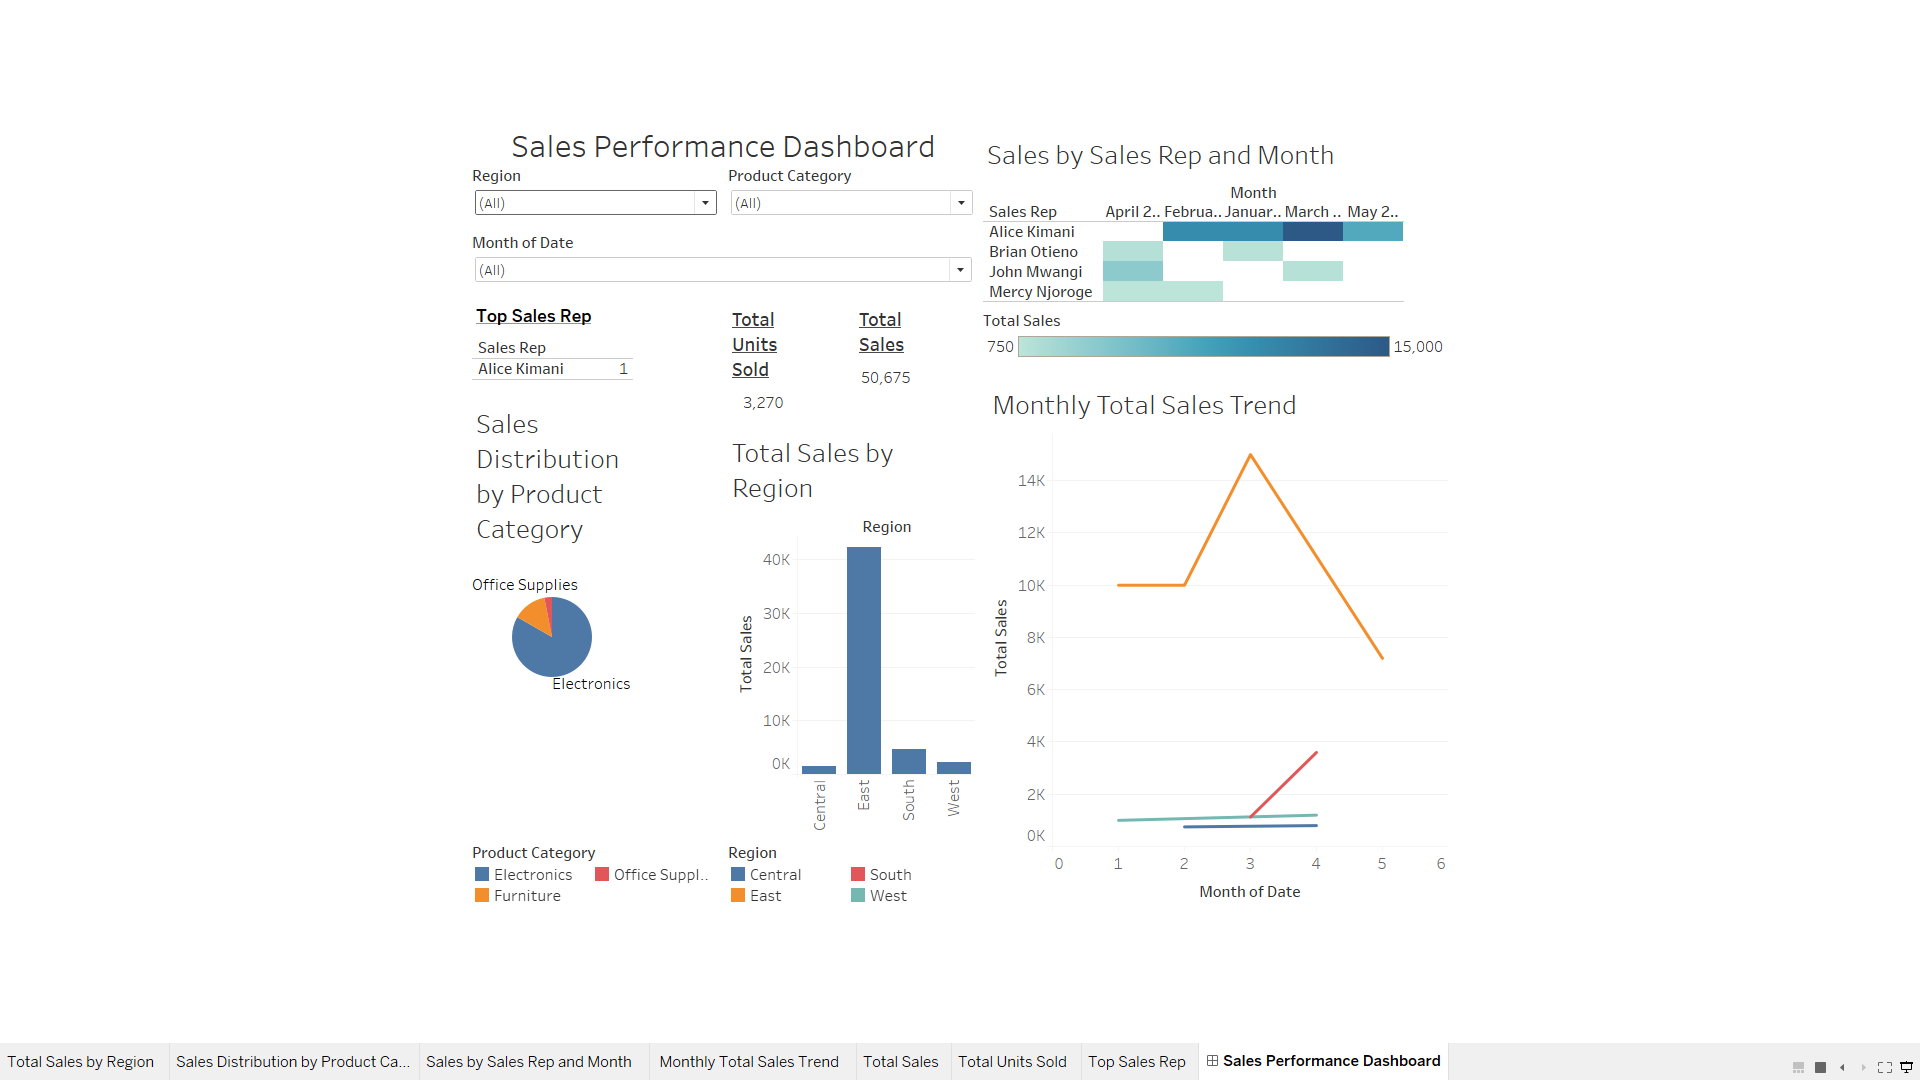

Layout of this report page (visuals, bound fields, positions):
{"tool":"tableau","page":{"name":"Sales Performance Dashboard","canvas":[1000,800],"ordinal":0},"visuals":[{"type":"title","box":[8,8,511,32]},{"type":"worksheet","title":"Sales by Sales Rep and Month","mark":"Square","rows":["Sales Rep"],"cols":["Calculation_398287096894464006"],"box":[519,8,473,177]},{"type":"filter","title":"Sales Distribution by Product Category","param":"[federated.1k56g9n1raj53l147kjdc0suh9s0].[none:Region:nk]","box":[8,40,255.5,67]},{"type":"filter","title":"Sales Distribution by Product Category","param":"[federated.1k56g9n1raj53l147kjdc0suh9s0].[none:Product Category:nk]","box":[263.5,40,255.5,67]},{"type":"filter","title":"Sales Distribution by Product Category","param":"[federated.1k56g9n1raj53l147kjdc0suh9s0].[mn:Date:ok]","box":[8,107,511,70]},{"type":"worksheet","title":"Top Sales Rep","mark":"Automatic","rows":["Sales Rep"],"box":[8,177,255.5,154]},{"type":"worksheet","title":"Total Units Sold","mark":"Automatic","box":[263.5,177,127.8,154]},{"type":"worksheet","title":"Total Sales","mark":"Automatic","box":[391.2,177,127.8,154]},{"type":"legend","title":"Sales by Sales Rep and Month","param":"[federated.1k56g9n1raj53l147kjdc0suh9s0].[sum:Total Sales:qk]","box":[519,185,473,73]},{"type":"worksheet","title":" Monthly Total Sales Trend","mark":"Line","rows":["Total Sales"],"cols":["Date"],"box":[519,258,473,534]},{"type":"worksheet","title":"Sales Distribution by Product Category","mark":"Pie","box":[8,331,255.5,386]},{"type":"worksheet","title":"Total Sales by Region","mark":"Bar","rows":["Total Sales"],"cols":["Region"],"box":[263.5,331,255.5,386]},{"type":"legend","title":"Sales Distribution by Product Category","param":"[federated.1k56g9n1raj53l147kjdc0suh9s0].[none:Product Category:nk]","box":[8,717,256,75]},{"type":"legend","title":" Monthly Total Sales Trend","param":"[federated.1k56g9n1raj53l147kjdc0suh9s0].[none:Region:nk]","box":[264,717,255,75]}]}

Visuals, with their boxes in screenshot pixels (x1, y1, x2, y2):
title: [166, 11, 846, 53]
"Sales by Sales Rep and Month" worksheet (Square marks): [846, 11, 1476, 246]
"Sales Distribution by Product Category" filter: [166, 53, 506, 142]
"Sales Distribution by Product Category" filter: [506, 53, 846, 142]
"Sales Distribution by Product Category" filter: [166, 142, 846, 236]
"Top Sales Rep" worksheet: [166, 236, 506, 441]
"Total Units Sold" worksheet: [506, 236, 676, 441]
"Total Sales" worksheet: [676, 236, 846, 441]
"Sales by Sales Rep and Month" legend: [846, 246, 1476, 343]
" Monthly Total Sales Trend" worksheet (Line marks): [846, 343, 1476, 1054]
"Sales Distribution by Product Category" worksheet (Pie marks): [166, 441, 506, 955]
"Total Sales by Region" worksheet (Bar marks): [506, 441, 846, 955]
"Sales Distribution by Product Category" legend: [166, 955, 506, 1054]
" Monthly Total Sales Trend" legend: [506, 955, 846, 1054]
